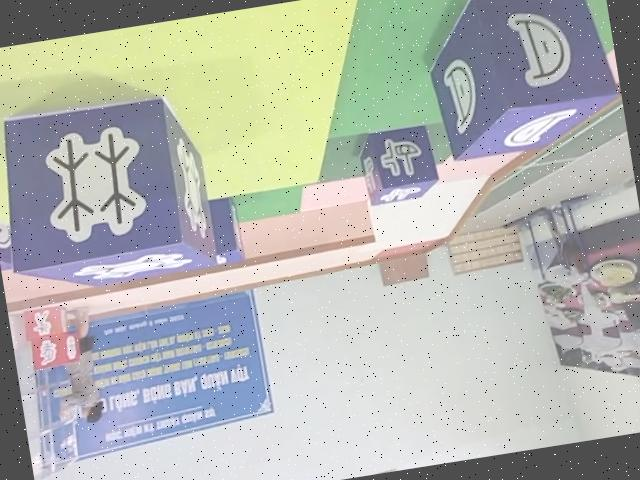R2 Real Blue: (0, 88, 218, 298), (420, 0, 622, 163), (356, 123, 442, 208)
